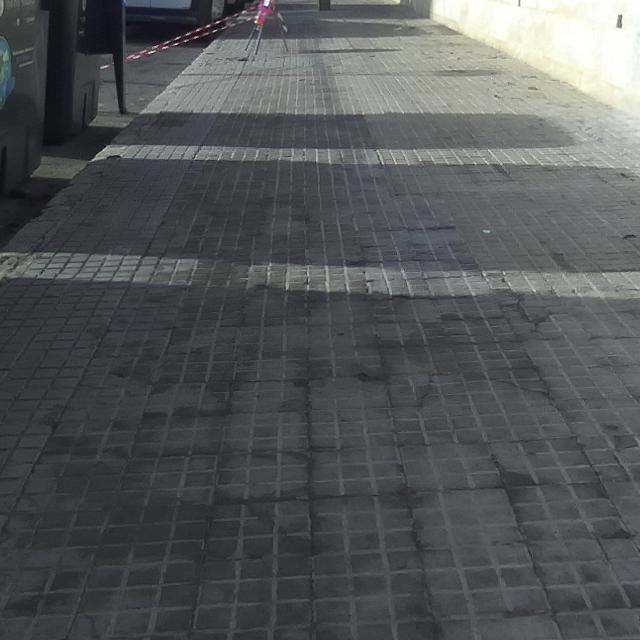calcada_quebrada: (240, 499, 305, 552), (467, 369, 558, 402), (0, 487, 43, 554), (370, 289, 474, 306), (513, 311, 569, 339), (410, 370, 448, 411), (33, 404, 71, 432), (402, 223, 466, 237), (83, 319, 116, 345), (485, 161, 522, 183), (341, 255, 373, 272), (352, 371, 392, 384), (288, 375, 316, 389)
